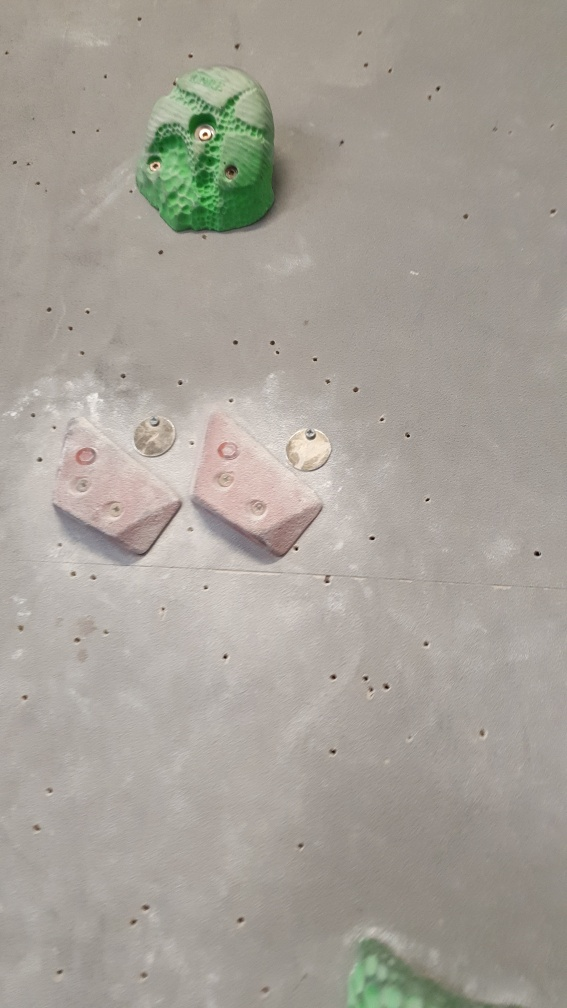Crimp: (195, 408, 326, 557), (53, 416, 180, 553)
Hand Start: (283, 427, 334, 479), (131, 412, 179, 458)
Jug: (131, 64, 280, 235)
